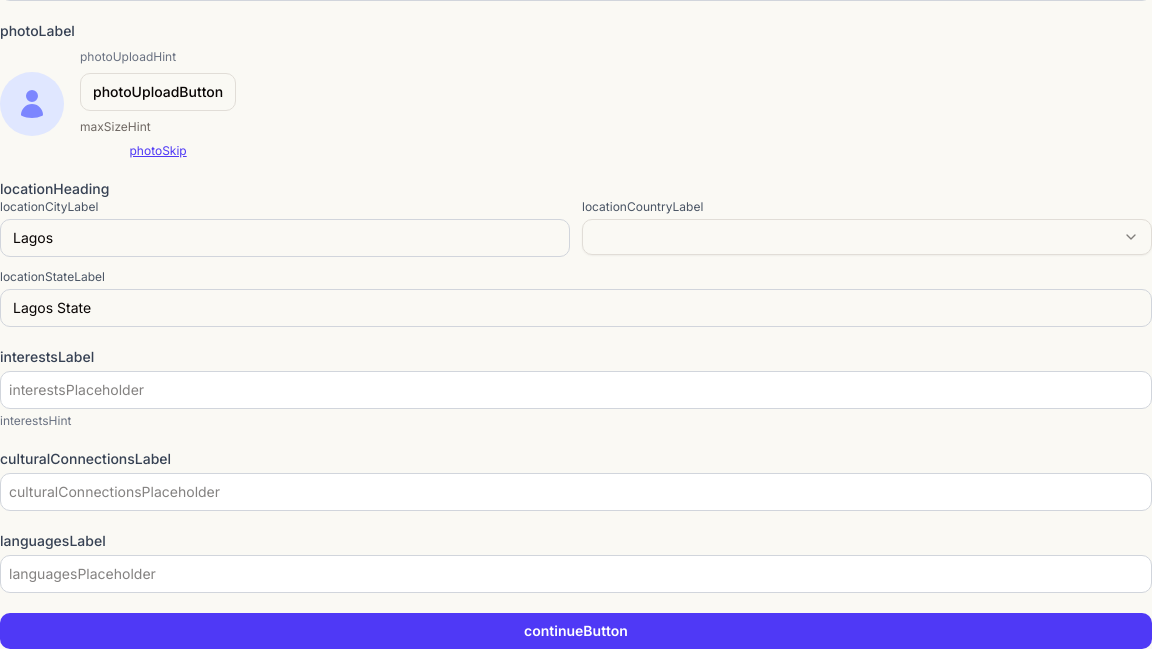
Test: ProfileStep › shows server error when saveProfileAction returns failure
This screenshot has width=1152, height=649.
(page scrolled)
What coordinates should you click on to do the following:
click the button "continueButton"
I would click on:
 (576, 631)
Its box is [0, 613, 1151, 648].
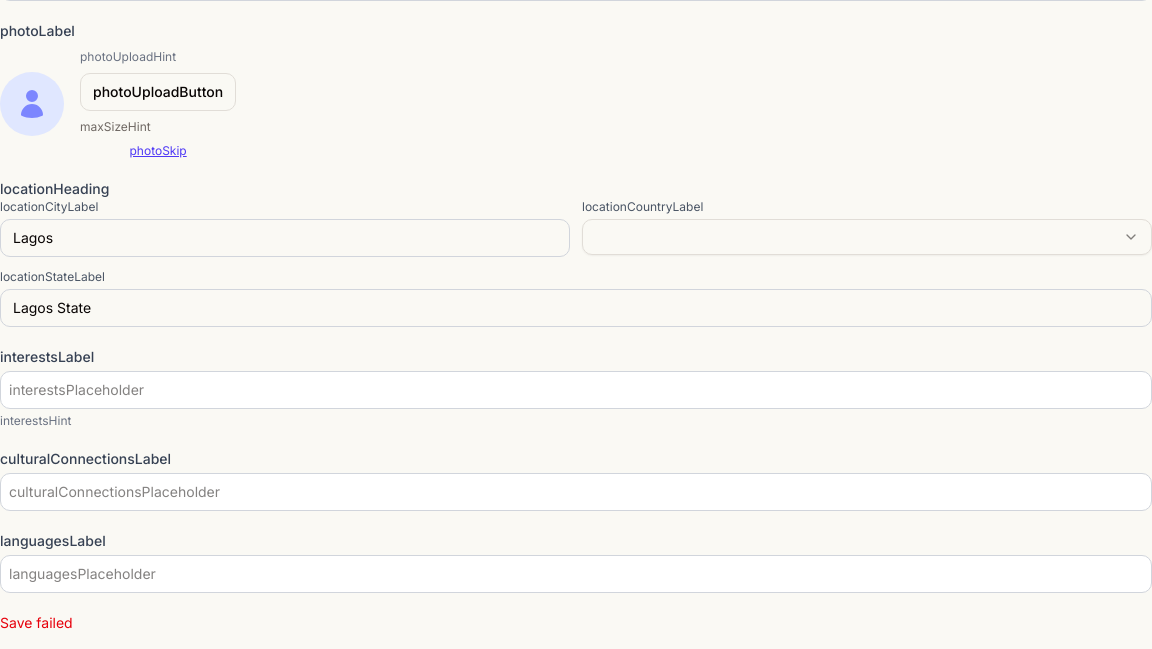
Result: the message reads "Save failed" at [0, 614, 73, 631]
